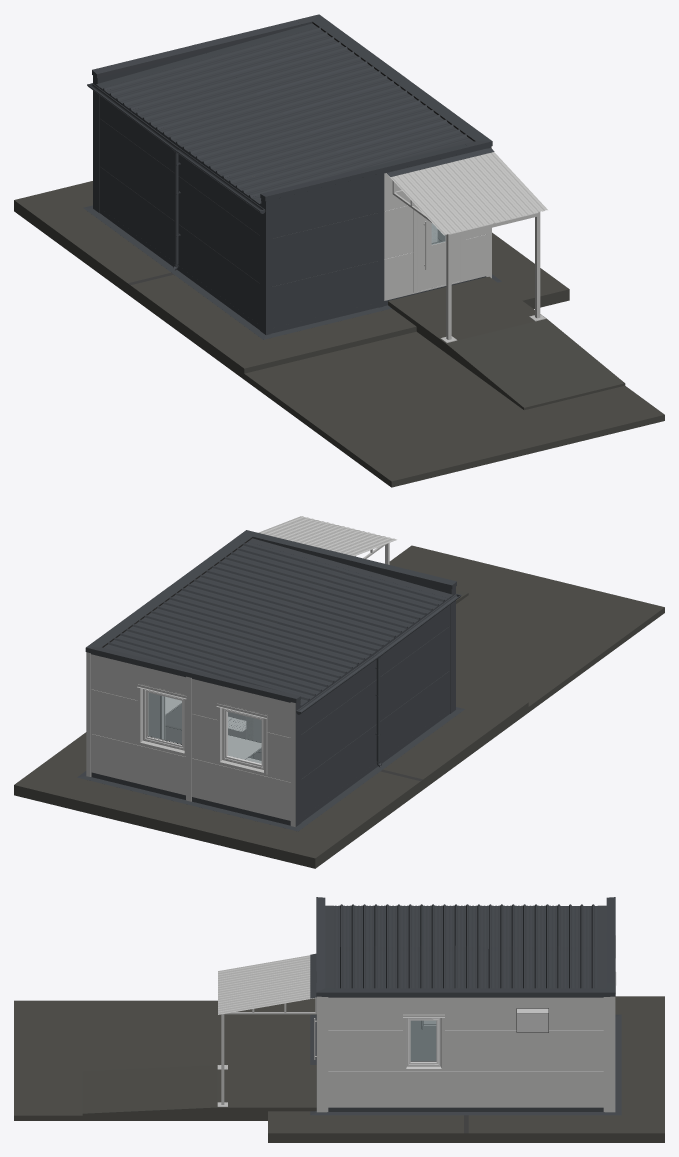
File: mops.glb
3 views of the same model, one above another, from view 1: azimuth 30°, elevation 25°; view 2: azimuth 150°, elevation 25°; view 3: azimuth 270°, elevation 25° (orthographic). The views are drawn at different scales.
Visible parts, largest first — view 1: Площадка, Сэндвич-Панель_Лево, Панель_Кровля, Панель_Кровля_2, Сэндвич-Панель_Зад_Перед, Козырек, Сэндвич-Панель_Перед_2, Отлив_Отмостка, Дверь, Водосточная система, Угол Внешний_3, Парапет_Отлив_Перед_2 (+10 smaller); view 2: Площадка, Сэндвич-Панель_Лево, Панель_Кровля, Панель_Кровля_2, Сэндвич-Панель_Зад_2, Сэндвич-Панель_Зад, Отлив_Отмостка, Козырек, Нполнение, OK1, ОК2, Водосточная система (+14 smaller); view 3: Площадка, Сэндвич-Панель_Право, Панель_Кровля, Панель_Кровля_2, Козырек, Отлив_Отмостка, ОК3, Угол Внешний, Угол Внешний_4, Парапет_Отлив_Право_2, Парапет_Отлив_Право, ЦСП 24 мм (+10 smaller).
Boxes of the visible parts, <box> form: Площадка: <box>14,181,664,487</box>; Сэндвич-Панель_Лево: <box>100,87,259,324</box>; Панель_Кровля: <box>207,27,469,169</box>; Панель_Кровля_2: <box>101,58,358,199</box>; Сэндвич-Панель_Зад_Перед: <box>271,175,377,328</box>; Козырек: <box>387,152,547,342</box>; Сэндвич-Панель_Перед_2: <box>384,173,486,300</box>; Отлив_Отмостка: <box>83,205,501,339</box>; Дверь: <box>413,203,463,292</box>; Водосточная система: <box>87,83,265,270</box>; Угол Внешний_3: <box>259,199,271,335</box>; Парапет_Отлив_Перед_2: <box>260,169,365,201</box>; Площадка: <box>14,545,664,868</box>; Сэндвич-Панель_Лево: <box>301,598,449,817</box>; Панель_Кровля: <box>106,542,349,673</box>; Панель_Кровля_2: <box>209,570,447,701</box>; Сэндвич-Панель_Зад_2: <box>192,679,290,820</box>; Сэндвич-Панель_Зад: <box>91,654,185,795</box>; Отлив_Отмостка: <box>77,707,464,831</box>; Козырек: <box>258,516,396,564</box>; Нполнение: <box>148,692,261,763</box>; OK1: <box>223,708,263,768</box>; ОК2: <box>144,689,184,749</box>; Водосточная система: <box>296,593,461,766</box>; Площадка: <box>14,996,664,1142</box>; Сэндвич-Панель_Право: <box>328,997,603,1107</box>; Панель_Кровля: <box>334,945,597,988</box>; Панель_Кровля_2: <box>334,904,597,946</box>; Козырек: <box>217,955,316,1106</box>; Отлив_Отмостка: <box>310,1014,621,1115</box>; ОК3: <box>408,1018,439,1065</box>; Угол Внешний: <box>603,996,615,1112</box>; Угол Внешний_4: <box>316,996,328,1112</box>; Парапет_Отлив_Право_2: <box>462,988,592,997</box>; Парапет_Отлив_Право: <box>339,988,461,997</box>; ЦСП 24 мм: <box>410,1020,436,1059</box>.
Size of the model in its own units: 7080 by 3130 by 14230.
Materials: 24 (4 with a texture image).
